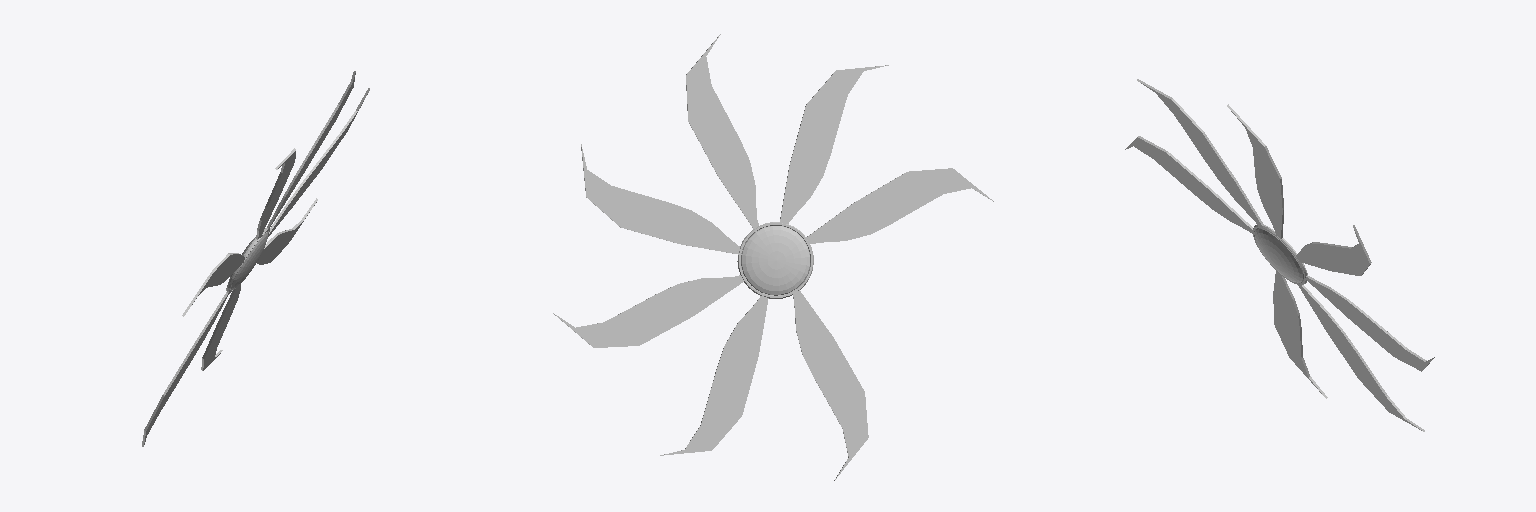
The model's file is newfan2.obj.
3 views of the same model, side by side, from view 1: azimuth 30°, elevation 25°; view 2: azimuth 150°, elevation 25°; view 3: azimuth 270°, elevation 25° (orthographic).
Visible parts, largest first — view 1: fan:middle:sphere, Cap:2_3, Cap:2_6, Cap:2_2, Cap:2, Cap:2_5, Cap:2_1, Cap:2_4; view 2: Cap:1_5, Cap:1_4, Cap:1_2, Cap:1_3, Cap:1_6, Cap:1, Cap:1_1, fan:middle:sphere, fan:middle; view 3: Cap:2_2, Cap:2_5, Cap:2_1, Cap:2, Cap:2_3, Cap:2_4, Cap:2_6, fan:middle:sphere.
Boxes of the visible parts, x1=… form: fan:middle:sphere: x1=228, y1=232, x2=267, y2=290; Cap:2_3: x1=144, y1=290, x2=230, y2=444; Cap:2_6: x1=203, y1=284, x2=240, y2=370; Cap:2_2: x1=192, y1=254, x2=244, y2=304; Cap:2: x1=268, y1=94, x2=367, y2=236; Cap:2_5: x1=267, y1=73, x2=355, y2=231; Cap:2_1: x1=258, y1=151, x2=295, y2=238; Cap:2_4: x1=257, y1=202, x2=316, y2=264; Cap:1_5: x1=686, y1=34, x2=757, y2=231; Cap:1_4: x1=553, y1=276, x2=745, y2=347; Cap:1_2: x1=805, y1=168, x2=992, y2=244; Cap:1_3: x1=793, y1=289, x2=868, y2=479; Cap:1_6: x1=660, y1=293, x2=768, y2=455; Cap:1: x1=581, y1=144, x2=742, y2=254; Cap:1_1: x1=780, y1=65, x2=888, y2=226; fan:middle:sphere: x1=741, y1=226, x2=809, y2=295; fan:middle: x1=737, y1=222, x2=813, y2=298; Cap:2_2: x1=1125, y1=137, x2=1254, y2=234; Cap:2_5: x1=1231, y1=111, x2=1282, y2=238; Cap:2_1: x1=1141, y1=83, x2=1262, y2=228; Cap:2: x1=1296, y1=230, x2=1369, y2=275; Cap:2_3: x1=1273, y1=271, x2=1321, y2=393; Cap:2_4: x1=1306, y1=277, x2=1432, y2=371; Cap:2_6: x1=1296, y1=282, x2=1421, y2=430; fan:middle:sphere: x1=1255, y1=228, x2=1303, y2=282.
Bounding box in the file's own units: 36.24 × 42.83 × 32.32.